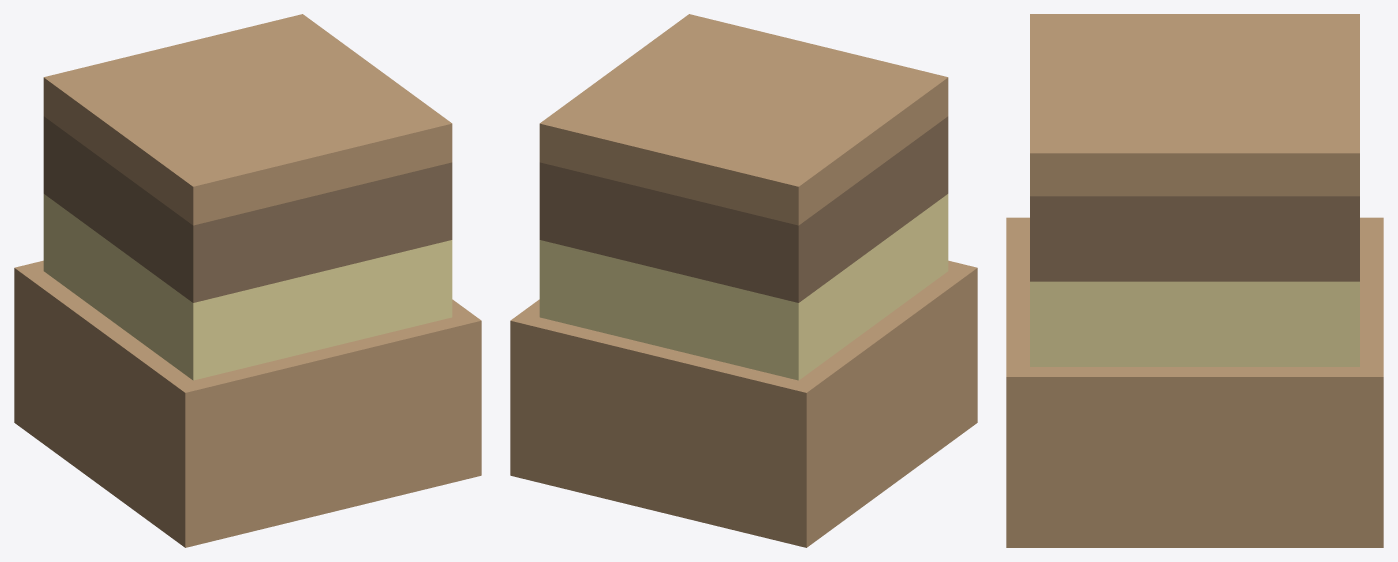
Rendered from Prop_Water_AMF_Filter_V7.glb.
The picture shows the model from 3 angles, left to right: view 1: azimuth 30°, elevation 25°; view 2: azimuth 150°, elevation 25°; view 3: azimuth 270°, elevation 25°; orthographic projection. The views are drawn at different scales.
Parts seen in each view (by area): view 1: Prop_Water_AMF_Filter_V7; view 2: Prop_Water_AMF_Filter_V7; view 3: Prop_Water_AMF_Filter_V7.
Boxes of the visible parts, x1=… form: Prop_Water_AMF_Filter_V7: x1=14, y1=14, x2=481, y2=547; Prop_Water_AMF_Filter_V7: x1=510, y1=14, x2=977, y2=547; Prop_Water_AMF_Filter_V7: x1=1006, y1=14, x2=1383, y2=547.
Size of the model in its own units: 0.8 by 0.9 by 0.8.
